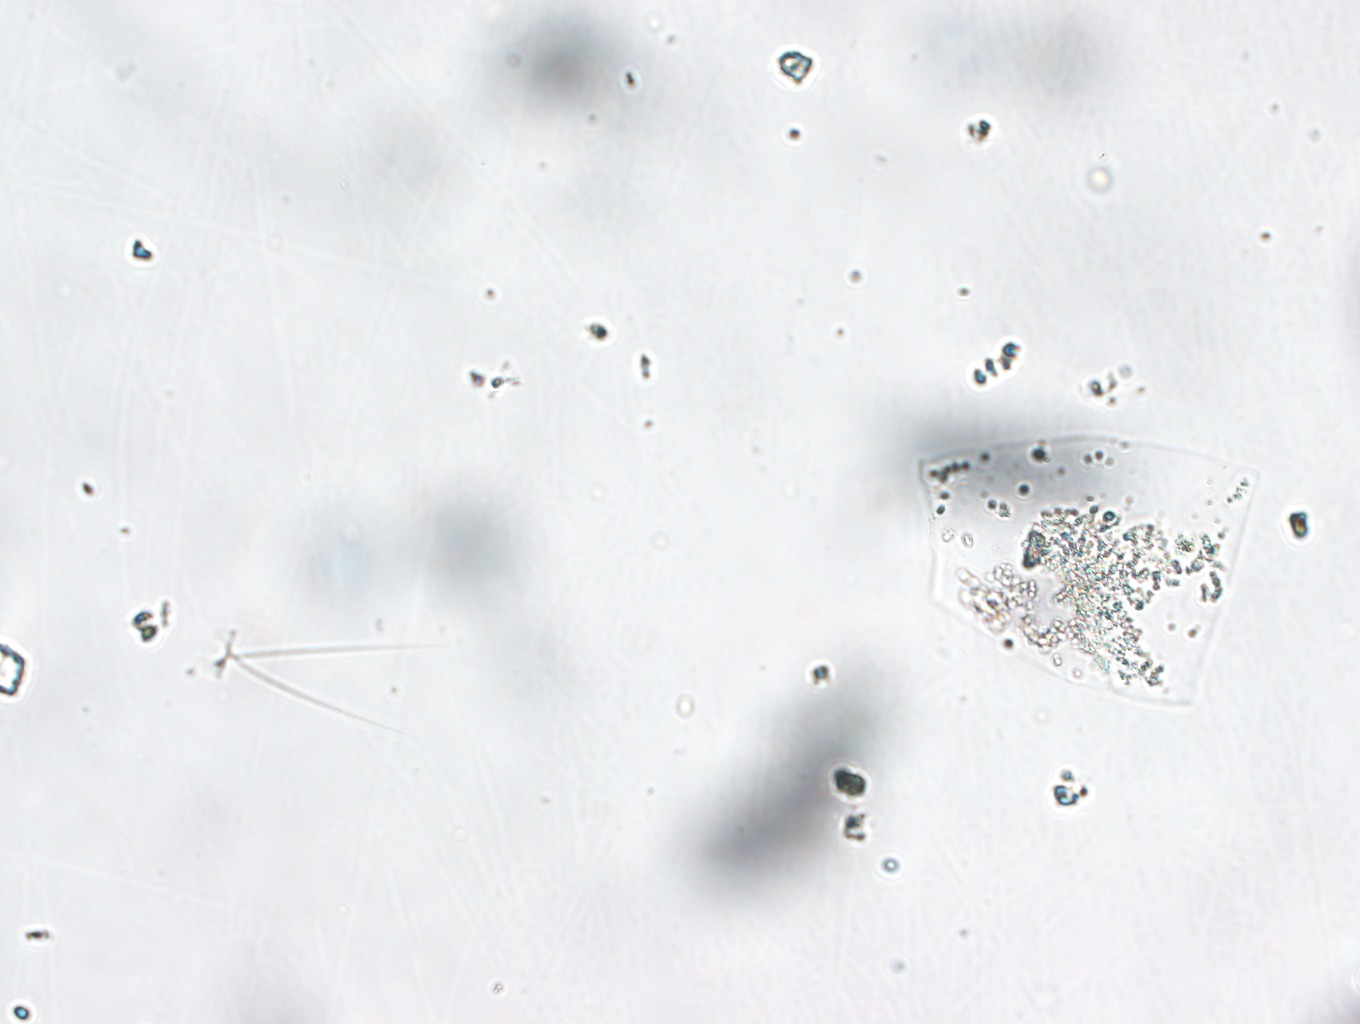helicotheca: (903, 414, 1265, 711)
